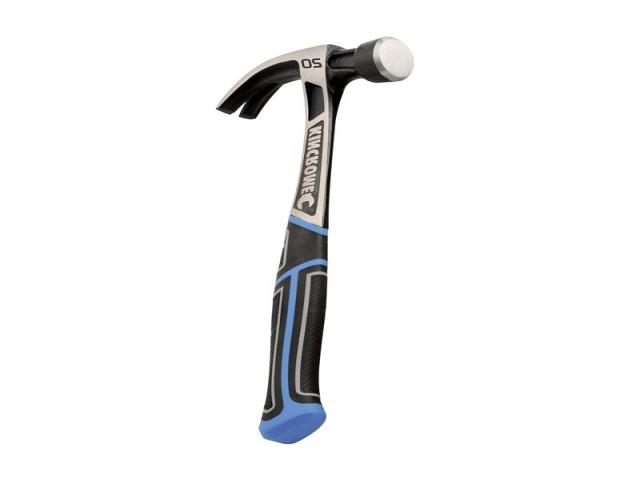hammer: (214, 36, 413, 446)
